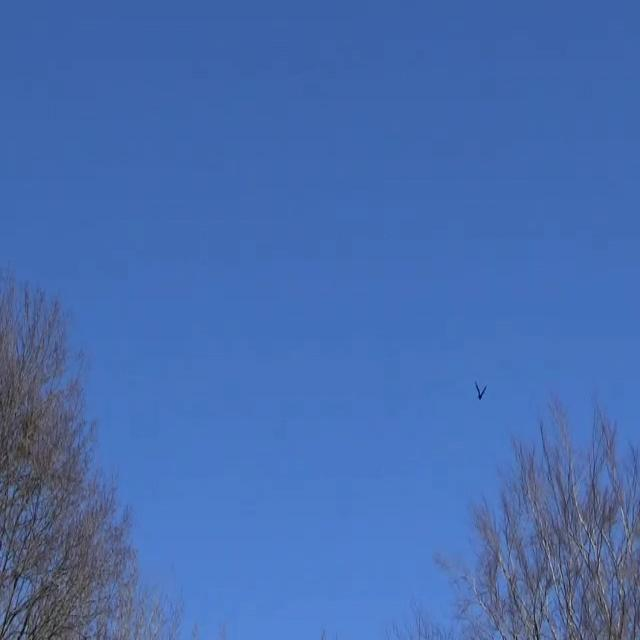bird: (469, 375, 491, 413)
